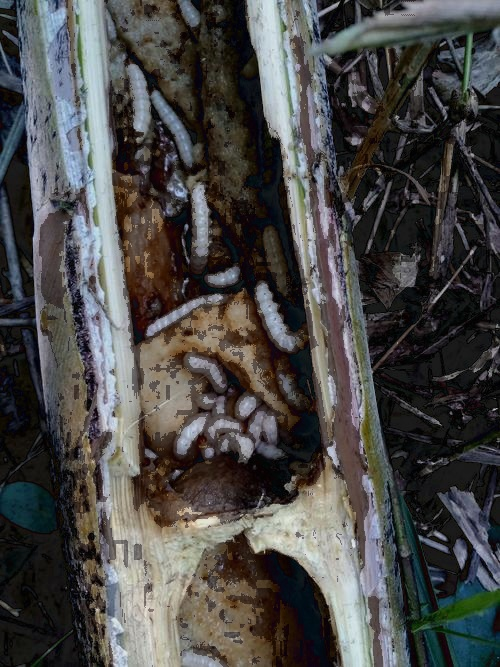Borer: (158, 350, 317, 475), (252, 215, 339, 365), (122, 32, 214, 167), (158, 175, 235, 331)
